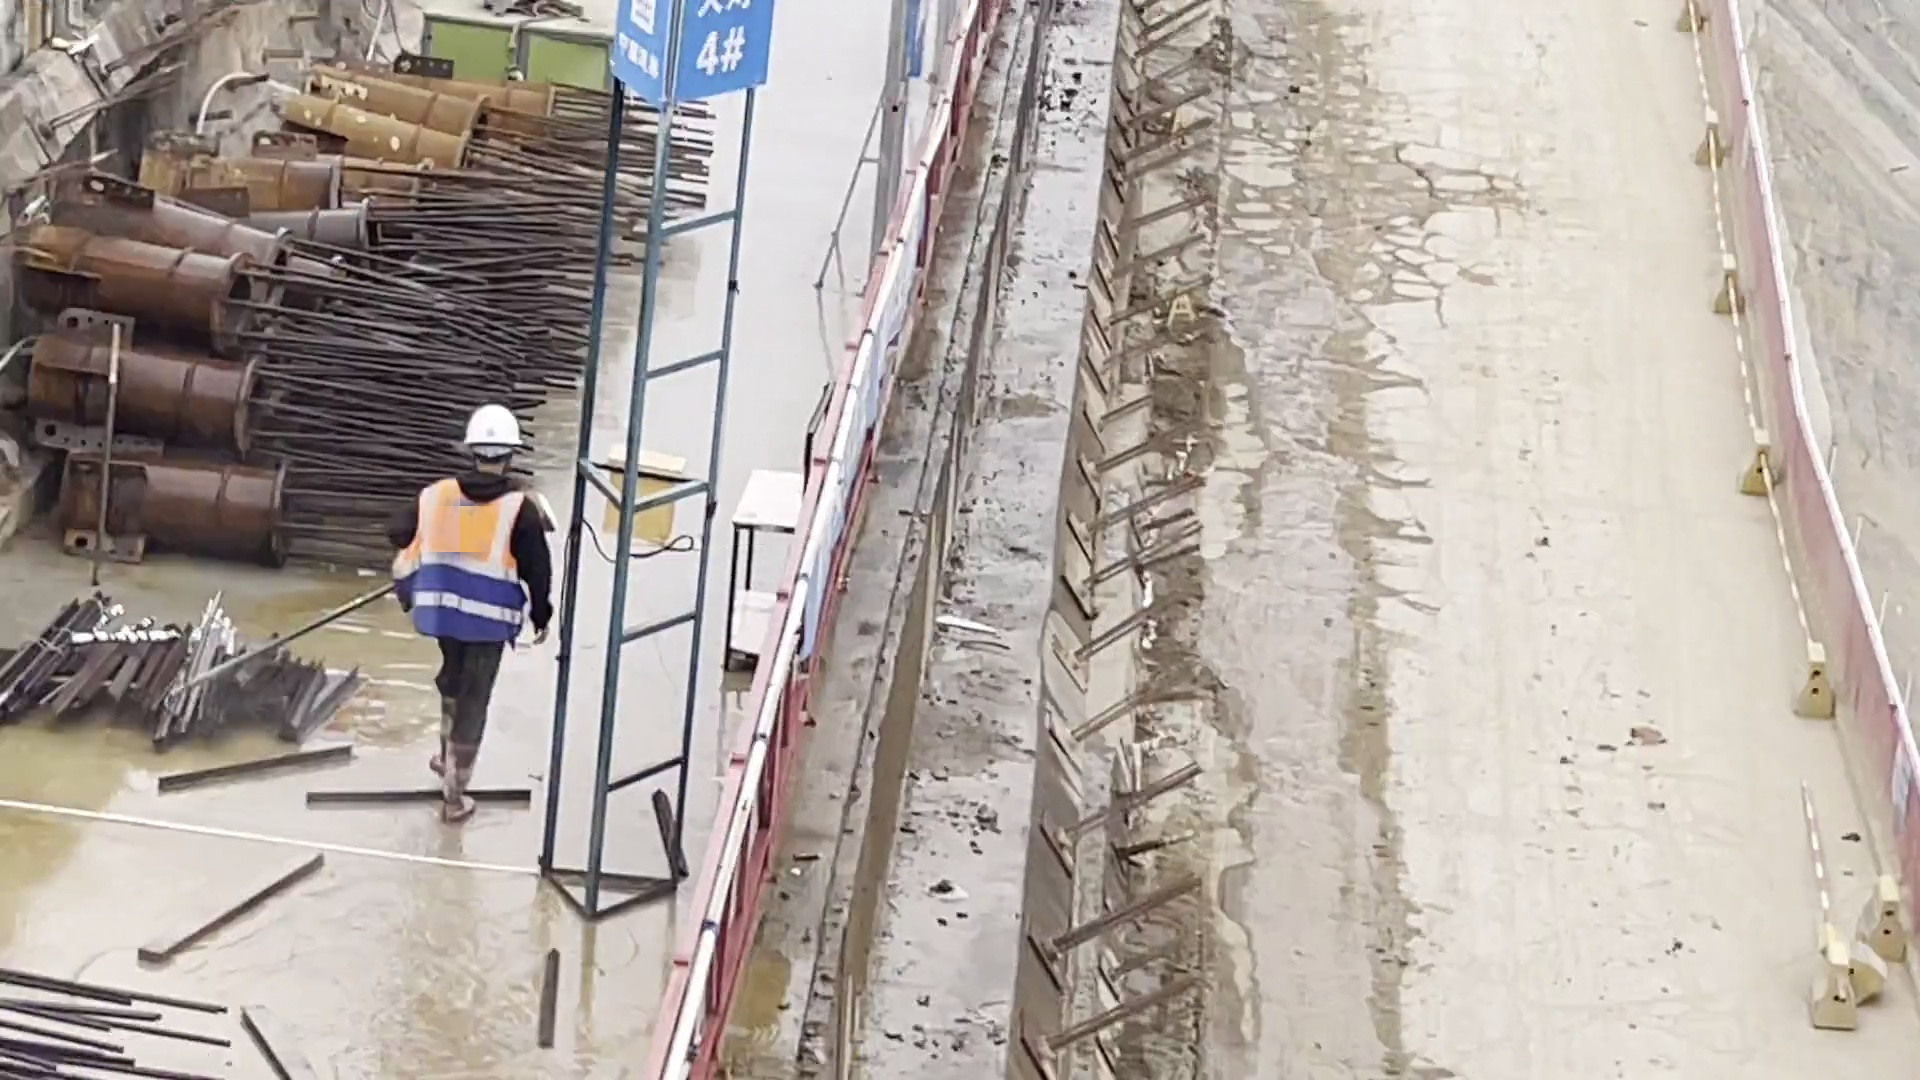ebox: (600, 442, 688, 553)
fence: (645, 692, 769, 1080), (1785, 632, 1920, 965), (1738, 351, 1871, 676), (1690, 1, 1807, 354), (765, 427, 868, 766), (838, 242, 930, 511), (903, 3, 998, 262)
helmet: (455, 395, 532, 469)
person: (390, 396, 561, 837)
slogan: (606, 3, 788, 111)
vest: (383, 469, 550, 650)
